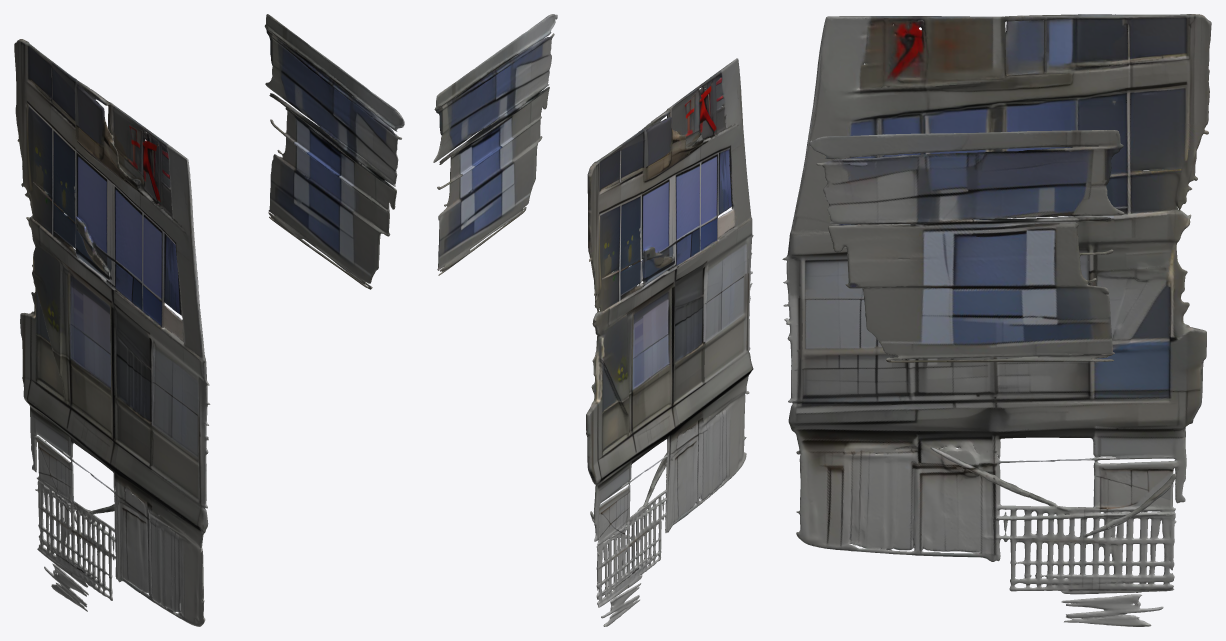
The model's file is sample-ND.glb.
The picture shows the model from 3 angles, left to right: view 1: azimuth 30°, elevation 25°; view 2: azimuth 150°, elevation 25°; view 3: azimuth 270°, elevation 25°; orthographic projection. The views are drawn at different scales.
Parts seen in each view (by area): view 1: tripo_node_1f33d2b8-8047-40c4-ae83-f8b8c9808772; view 2: tripo_node_1f33d2b8-8047-40c4-ae83-f8b8c9808772; view 3: tripo_node_1f33d2b8-8047-40c4-ae83-f8b8c9808772.
Boxes of the visible parts, x1=… form: tripo_node_1f33d2b8-8047-40c4-ae83-f8b8c9808772: x1=14, y1=14, x2=404, y2=626; tripo_node_1f33d2b8-8047-40c4-ae83-f8b8c9808772: x1=433, y1=14, x2=753, y2=626; tripo_node_1f33d2b8-8047-40c4-ae83-f8b8c9808772: x1=782, y1=14, x2=1211, y2=626.
Bounding box in the file's own units: 0.4268 × 1 × 0.6389.
1 material, 1 textured.
